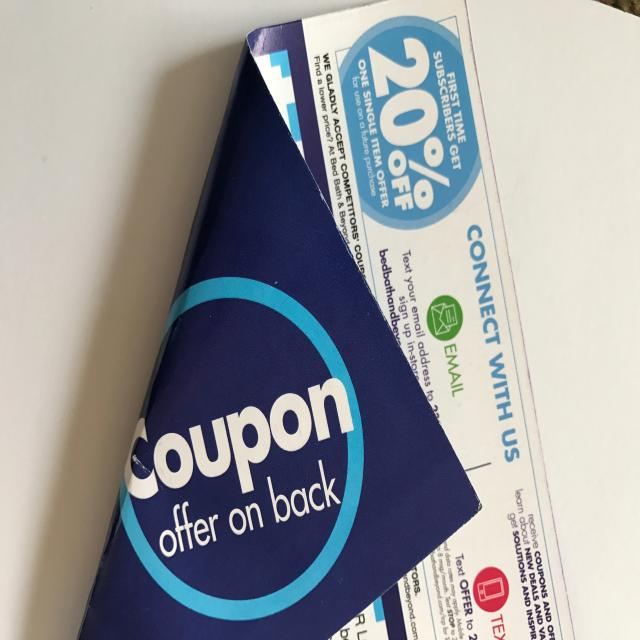paper: (79, 1, 575, 640)
